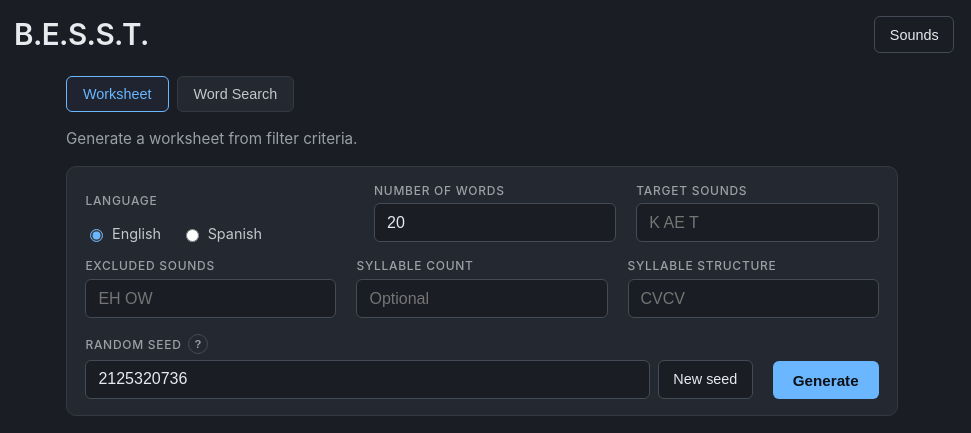
it: returns no matches without crashing
Click the button "Word Search": (235, 94) 176,76 -> 294,112
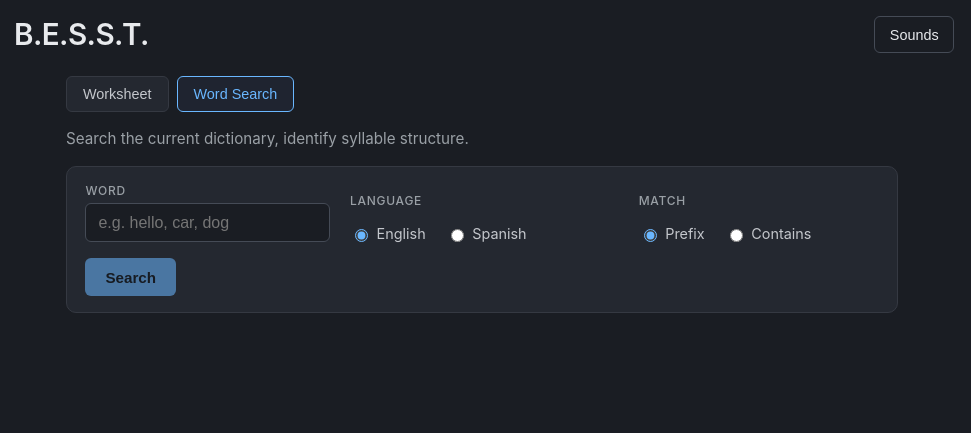
In the search field named "search word": (208, 223) 85,203 -> 330,242, type "xyz"
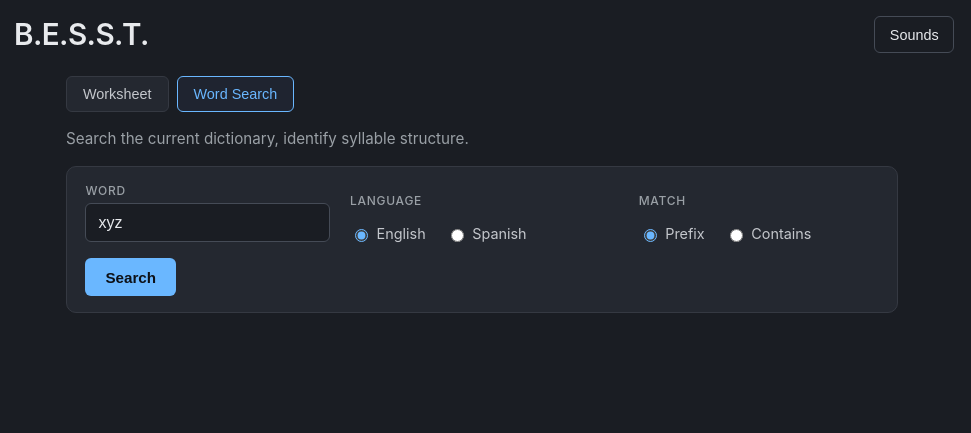
Click the button "Search": (131, 277) 85,258 -> 176,296
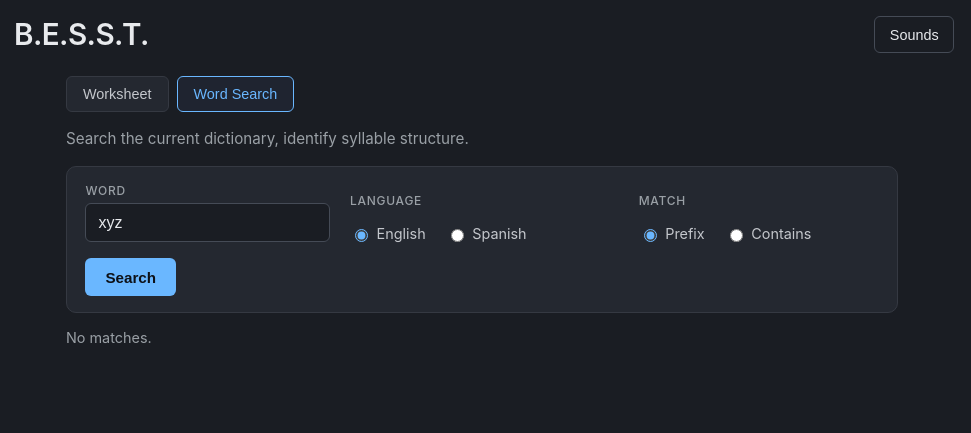
Check: the text "No matches." is shown, box 66,329 -> 152,346
